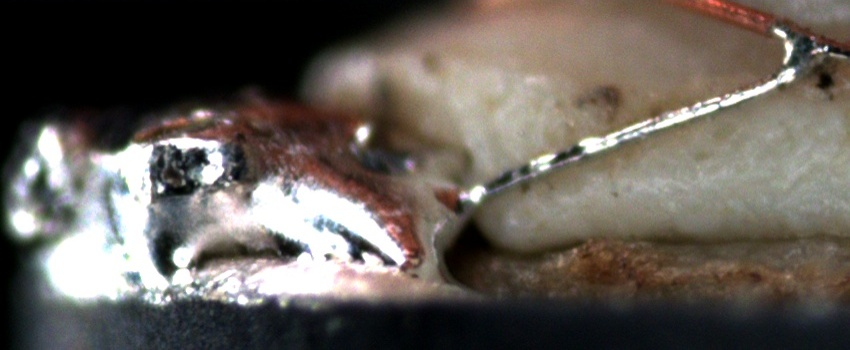TS: (470, 67, 798, 200)
